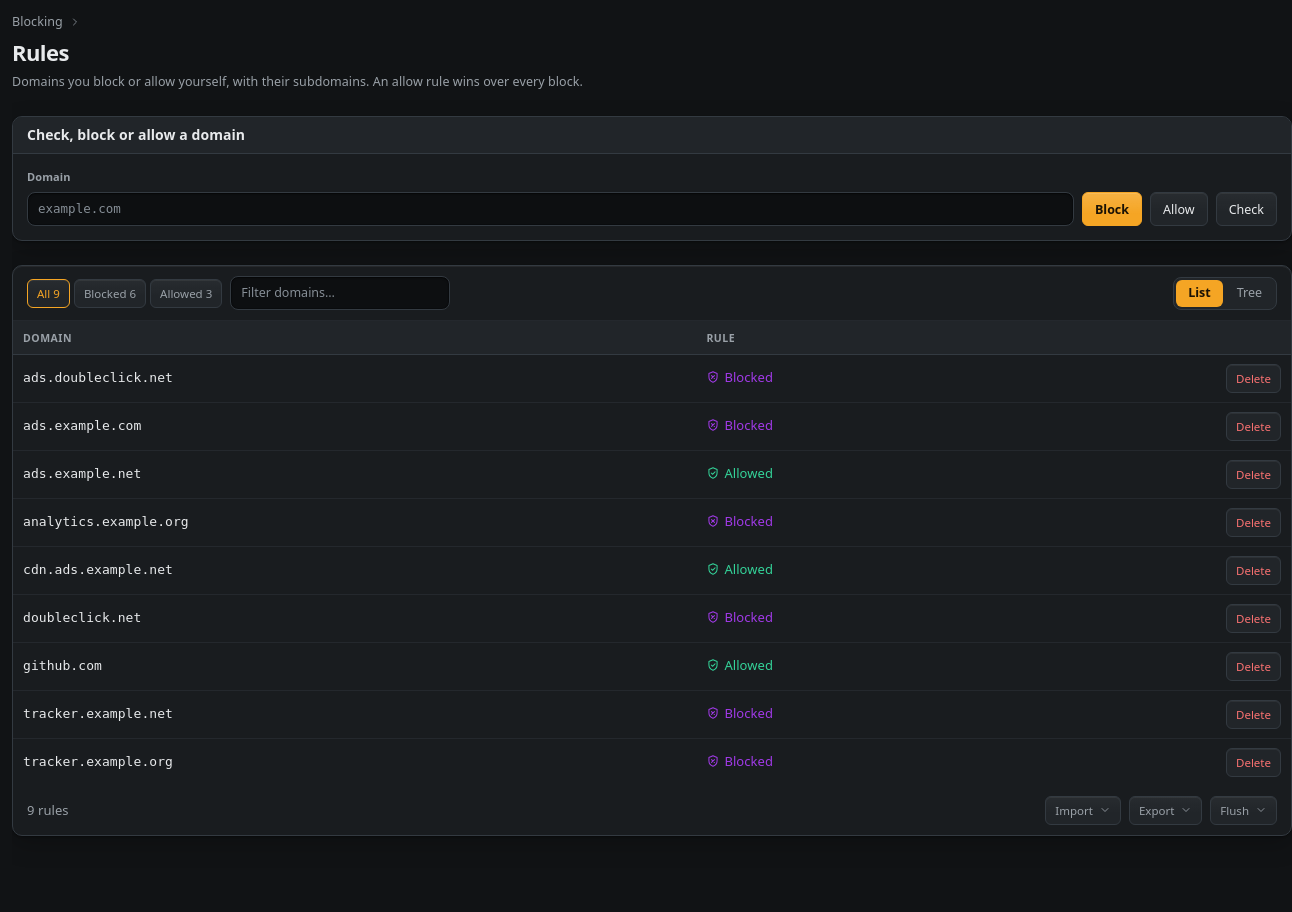
Test: Rules against the harness › the Allowed filter keeps only the allowed zones
This screenshot has width=1292, height=912.
Expected: the table is shown, [13,322,1291,786]
Click the button "Allowed 3": [186, 294] box [150,279,222,308]
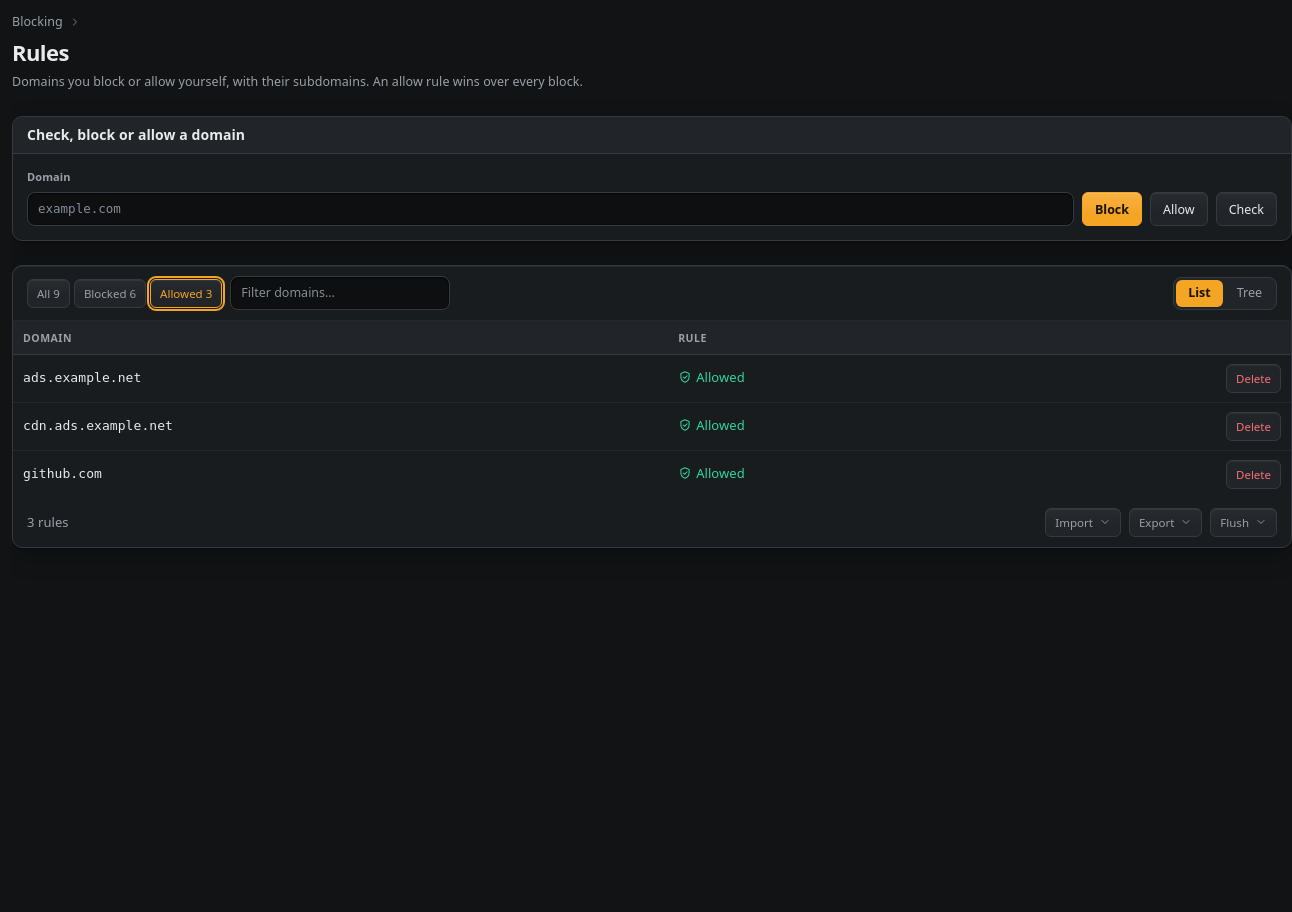
Expected: the text "ads.doubleclick.net" is gone
